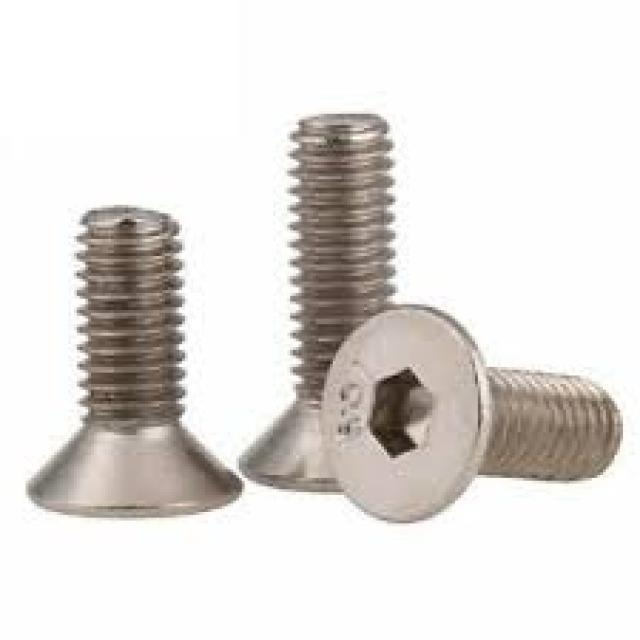allen: (320, 300, 490, 528)
